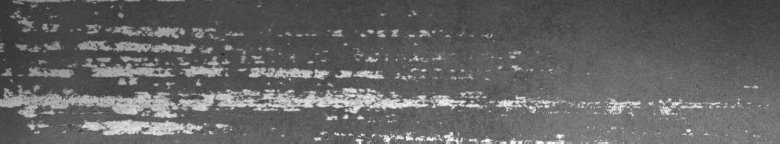kb: (4, 5, 758, 136)
